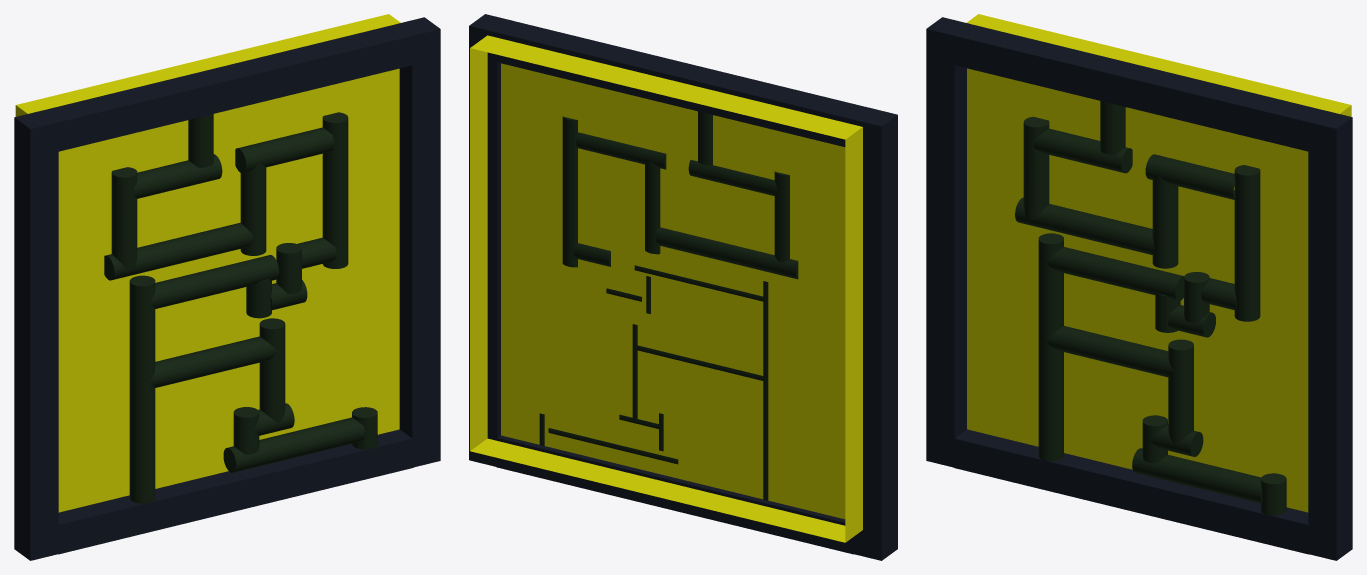
Rendered from PuzzlePipe_Mesh_01.fbx.
3 renders of one model, left to right at view 1: azimuth 30°, elevation 25°; view 2: azimuth 150°, elevation 25°; view 3: azimuth 330°, elevation 25°, orthographic.
Visible parts, largest first — view 1: polySurface14; view 2: polySurface14; view 3: polySurface14.
Boxes of the visible parts, x1,y1,x2,y2 form: polySurface14: [14, 14, 440, 560]; polySurface14: [469, 14, 897, 560]; polySurface14: [926, 14, 1352, 560].
Bounding box in the file's own units: 111 × 112 × 15.99.
